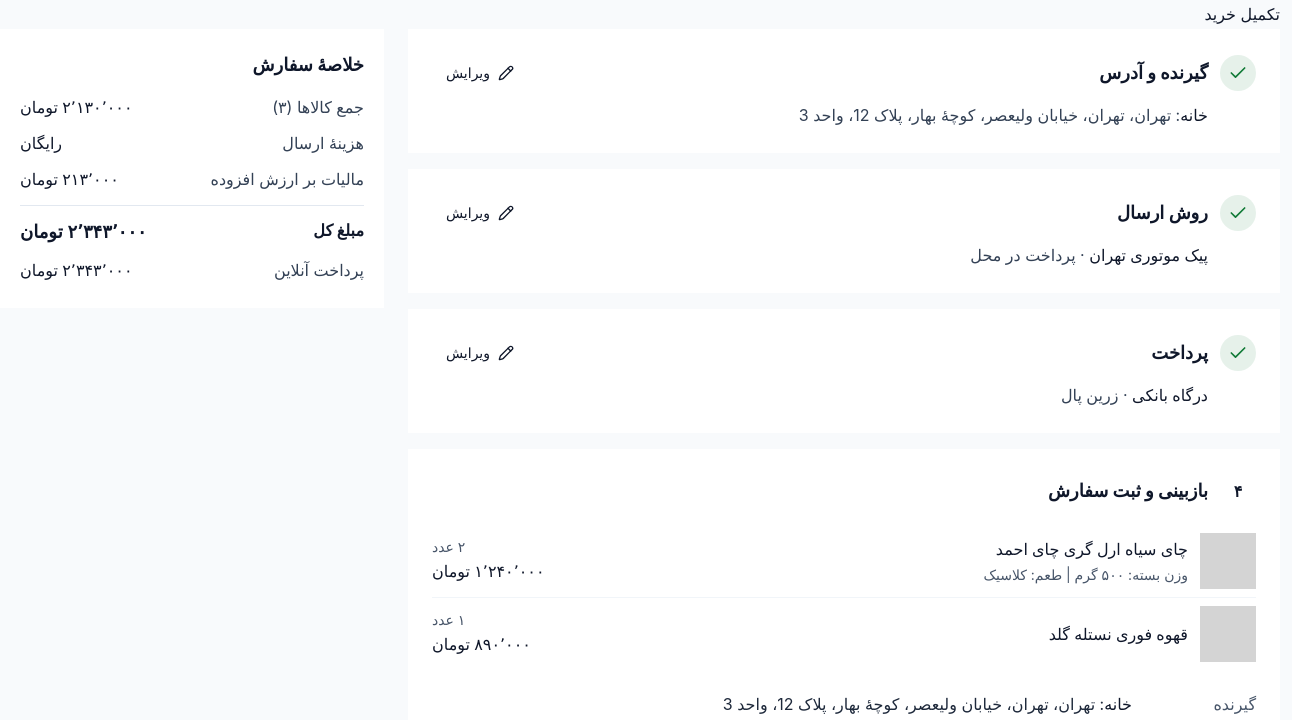
Scenario: CheckoutPage › a done step says what was chosen, and «ویرایش» opens it again
Expected: the element "گیرنده و آدرس" shows "خانه", [1180, 105, 1208, 125]
Expected: the element "روش ارسال ویرایش پیک موتوری تهران · پرداخت در محل" is shown, [408, 169, 1280, 293]
Click the button "ویرایش" in the row of "گیرنده و آدرس".
click(480, 73)  # box [432, 53, 528, 93]
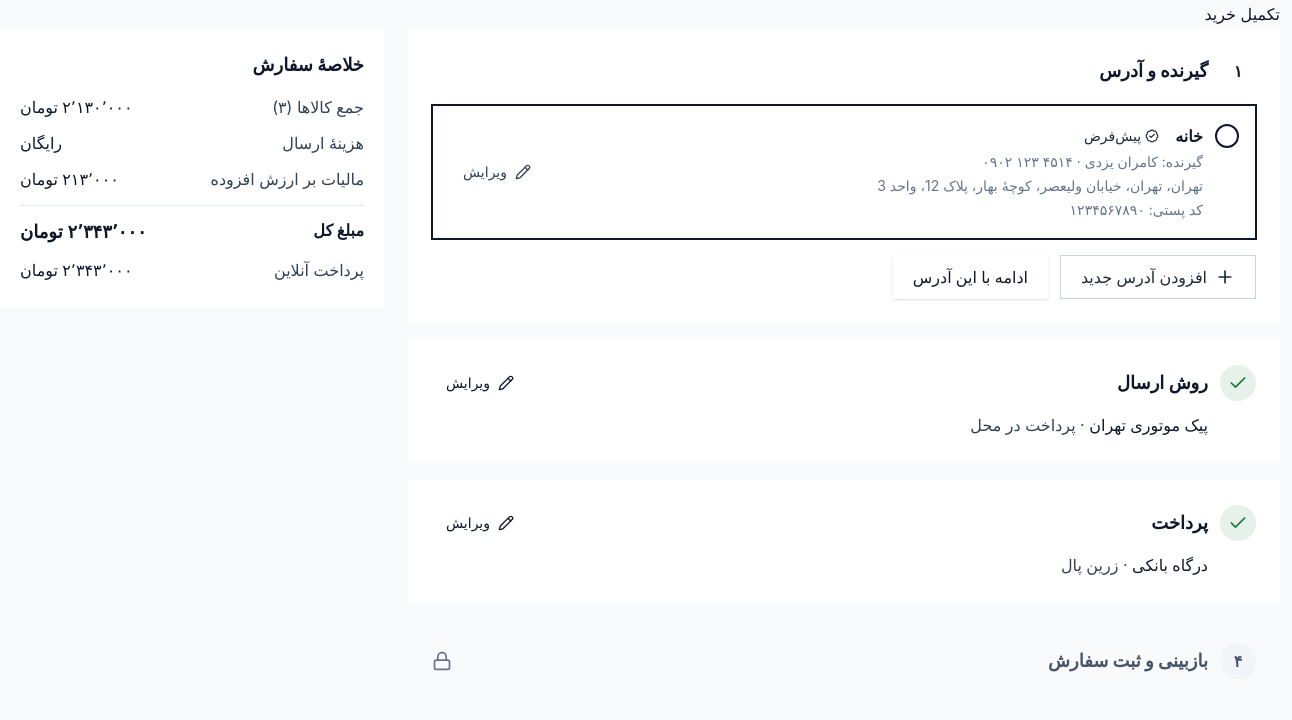
Expected: the element named "آدرس ارسال" is shown, [432, 105, 1256, 239]
